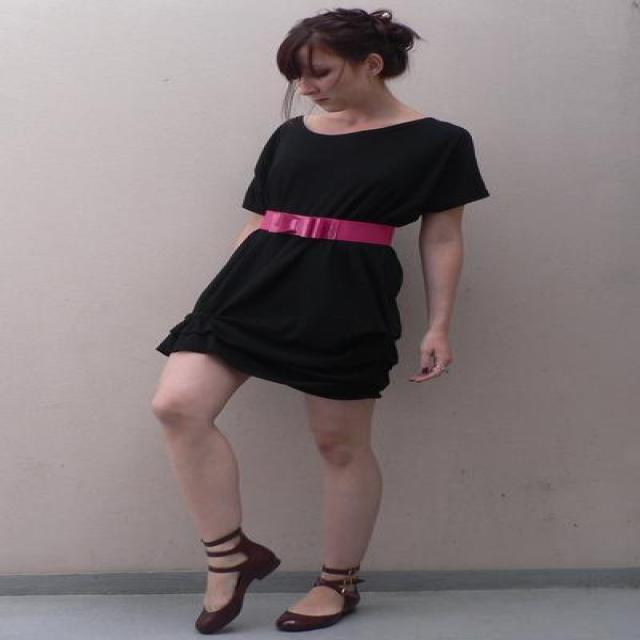dress: (155, 116, 488, 399)
shoe: (195, 527, 365, 634)
